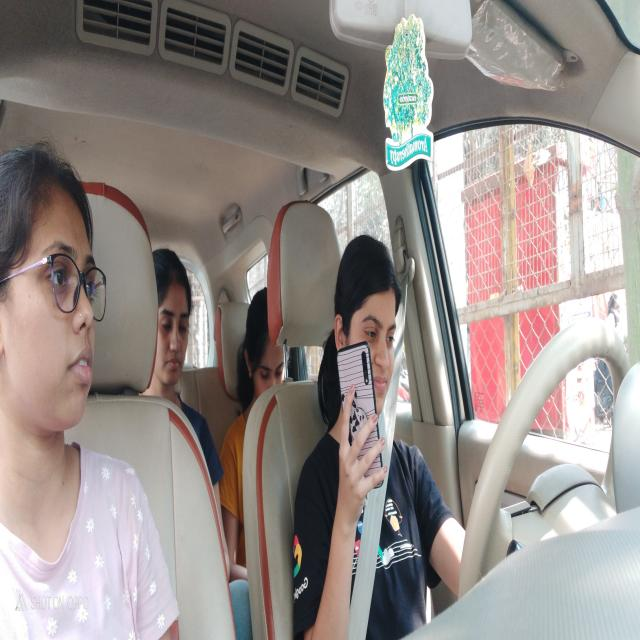mobile: (334, 349, 386, 489)
person: (2, 134, 98, 430), (339, 240, 399, 416), (155, 243, 189, 392), (243, 293, 288, 385)
